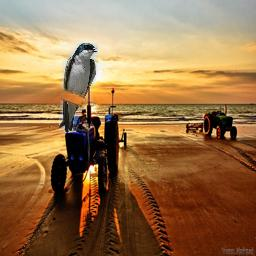Swallow: (59, 43, 98, 133)
